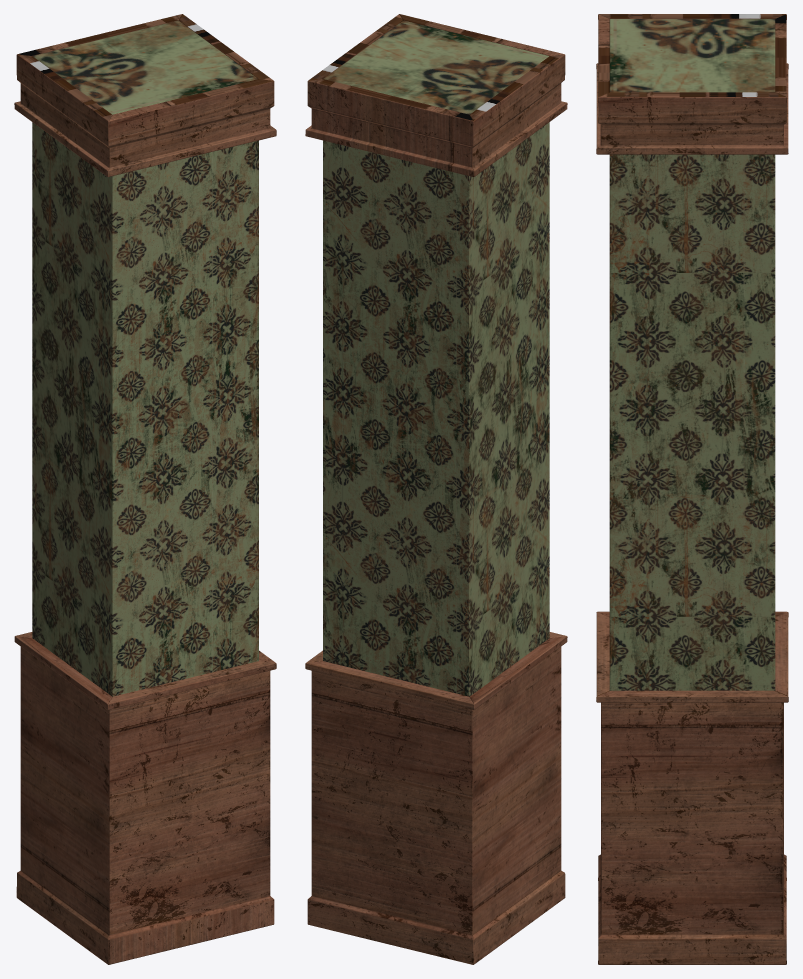
File: Pillar_A.fbx
The picture shows the model from 3 angles, left to right: view 1: azimuth 30°, elevation 25°; view 2: azimuth 150°, elevation 25°; view 3: azimuth 270°, elevation 25°; orthographic projection. The views are drawn at different scales.
Parts seen in each view (by area): view 1: Pillar_A; view 2: Pillar_A; view 3: Pillar_A.
Part boxes in pixels (box(x1,y1,x2,y2)): Pillar_A: box(14, 14, 276, 964); Pillar_A: box(305, 14, 567, 964); Pillar_A: box(596, 14, 788, 964).
Bounding box in the file's own units: 0.6917 × 0.6617 × 3.3.
Materials: 2 (2 with a texture image).
